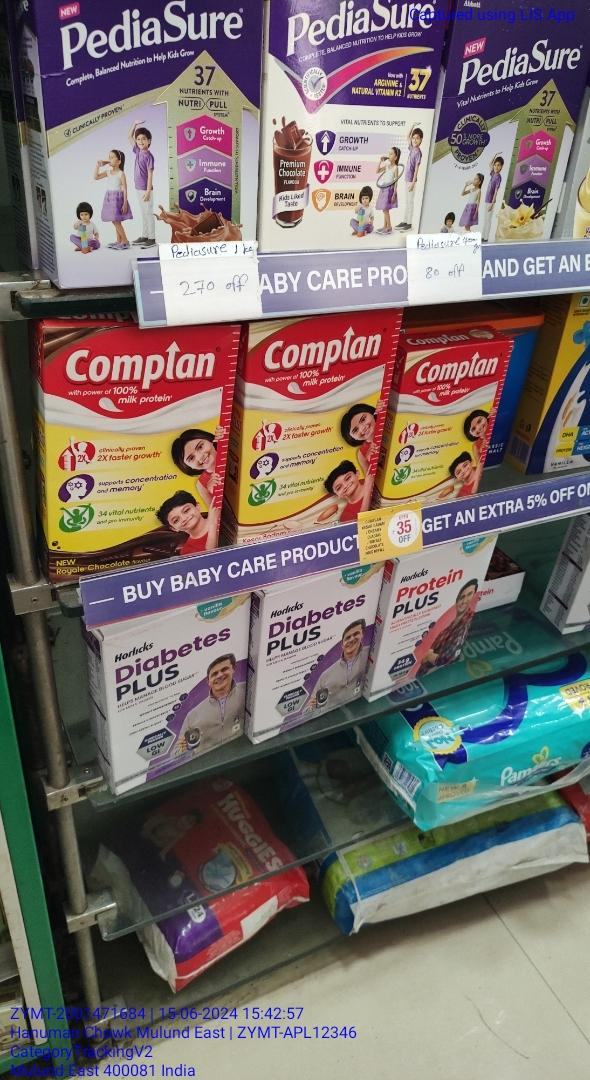COMPLAN_CHOCOLATE_500_GMS_PACK: (45, 335, 223, 553)
COMPLAN_KESAR_BADAM_200_GMS_PACK: (385, 350, 498, 504)
COMPLAN_KESAR_BADAM_500_GMS_PACK: (238, 335, 378, 538)
PEDIASURE_CHOCOLATE_500_G_PACK: (43, 3, 253, 235)
PEDIASURE_VANILLA_500_G_PACK: (427, 1, 587, 234)
